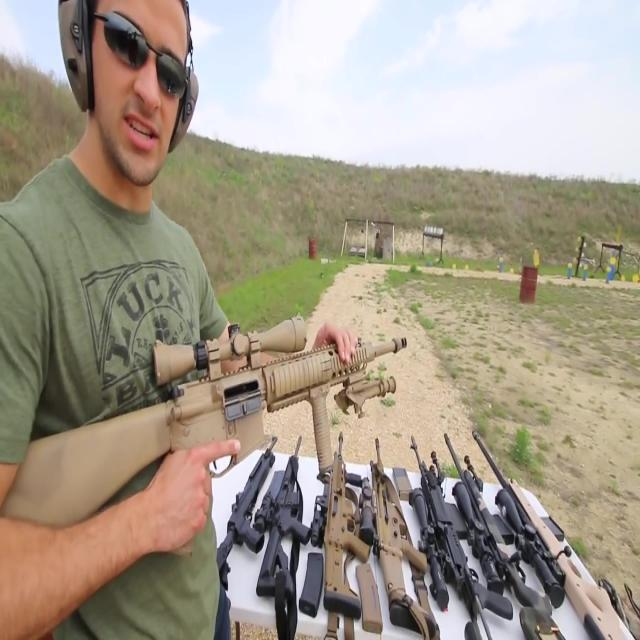Weapon: (0, 286, 441, 570), (207, 385, 628, 640)
